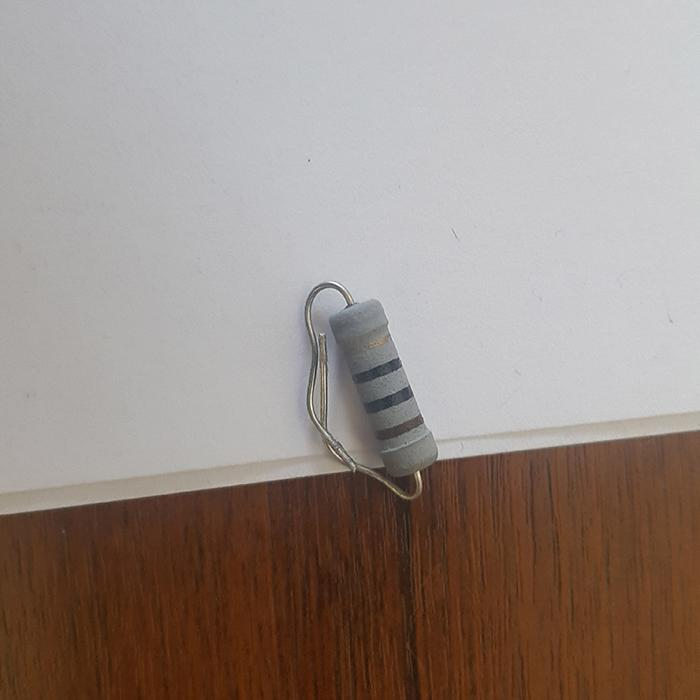resistor: (327, 296, 437, 475)
